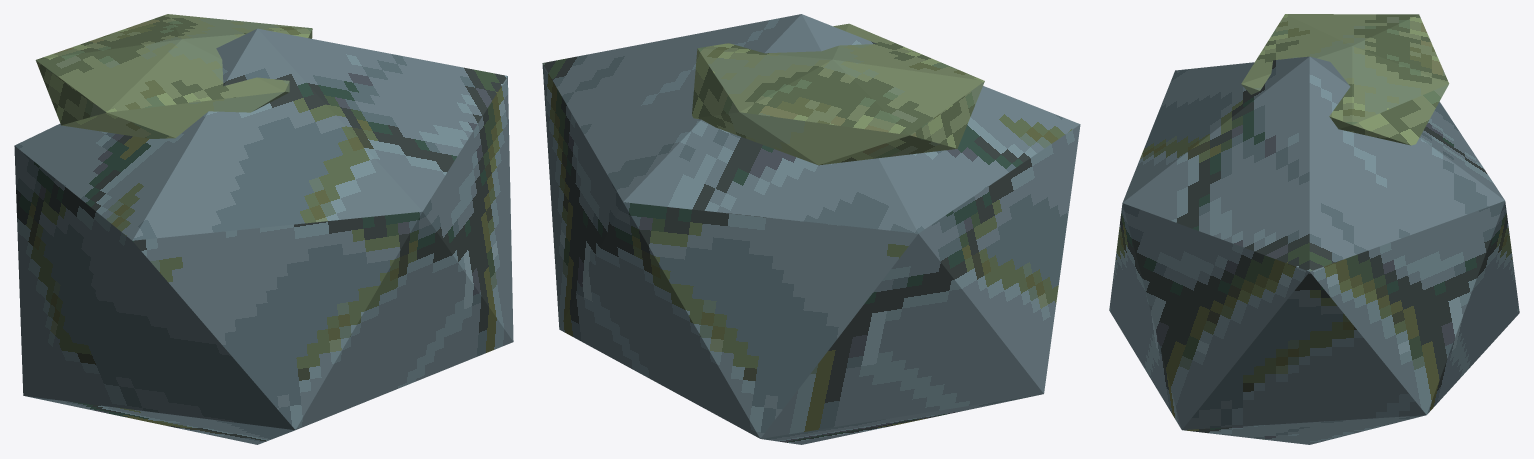
The model's file is pedra.fbx.
3 views of the same model, side by side, from view 1: azimuth 30°, elevation 25°; view 2: azimuth 150°, elevation 25°; view 3: azimuth 270°, elevation 25° (orthographic). The views are drawn at different scales.
Visible parts, largest first — view 1: bosque_pedra; view 2: bosque_pedra; view 3: bosque_pedra.
Boxes of the visible parts, x1,y1,x2,y2 form: bosque_pedra: (14, 14, 513, 444); bosque_pedra: (542, 14, 1080, 444); bosque_pedra: (1109, 14, 1519, 444).
Bounding box in the file's own units: 73.53 × 60.37 × 57.82.
Materials: 2 (2 with a texture image).
